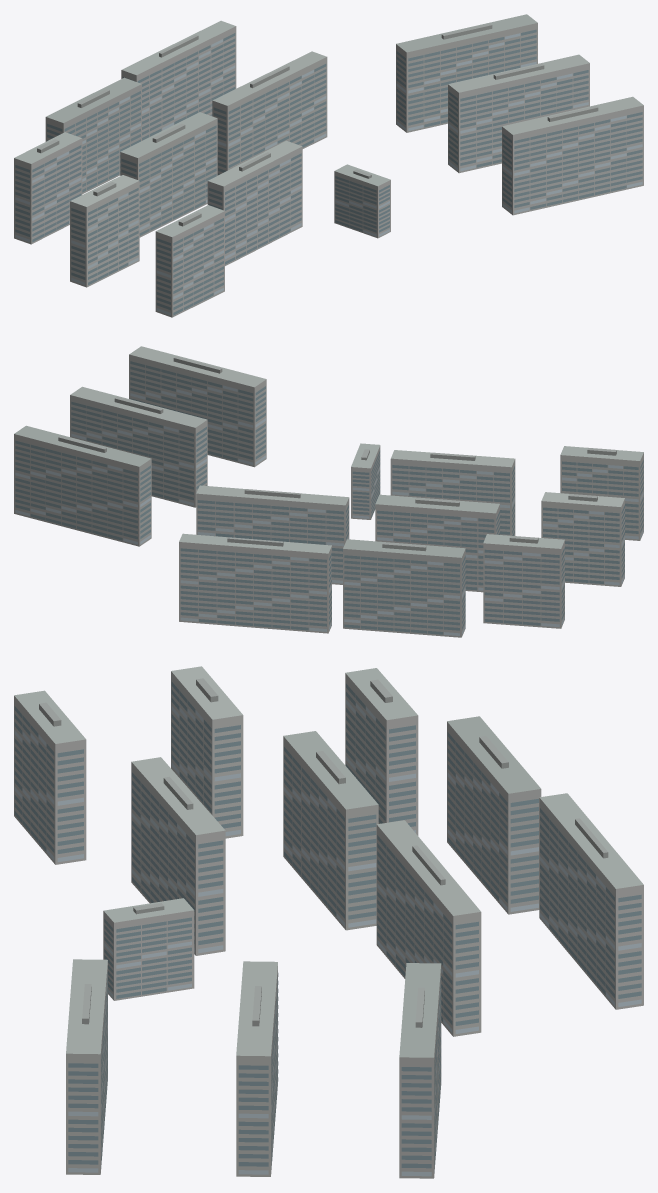
File: apt-a13977913.glb
3 views of the same model, one above another, from view 1: azimuth 30°, elevation 25°; view 2: azimuth 150°, elevation 25°; view 3: azimuth 270°, elevation 25° (orthographic). The views are drawn at different scales.
Parts seen in each view (by area): view 1: apt-a13977913; view 2: apt-a13977913; view 3: apt-a13977913.
Part boxes in pixels (<box>): apt-a13977913: <box>14,14,643,317</box>; apt-a13977913: <box>14,346,643,637</box>; apt-a13977913: <box>14,666,643,1178</box>.
Bounding box in the file's own units: 318 × 47.81 × 216.
